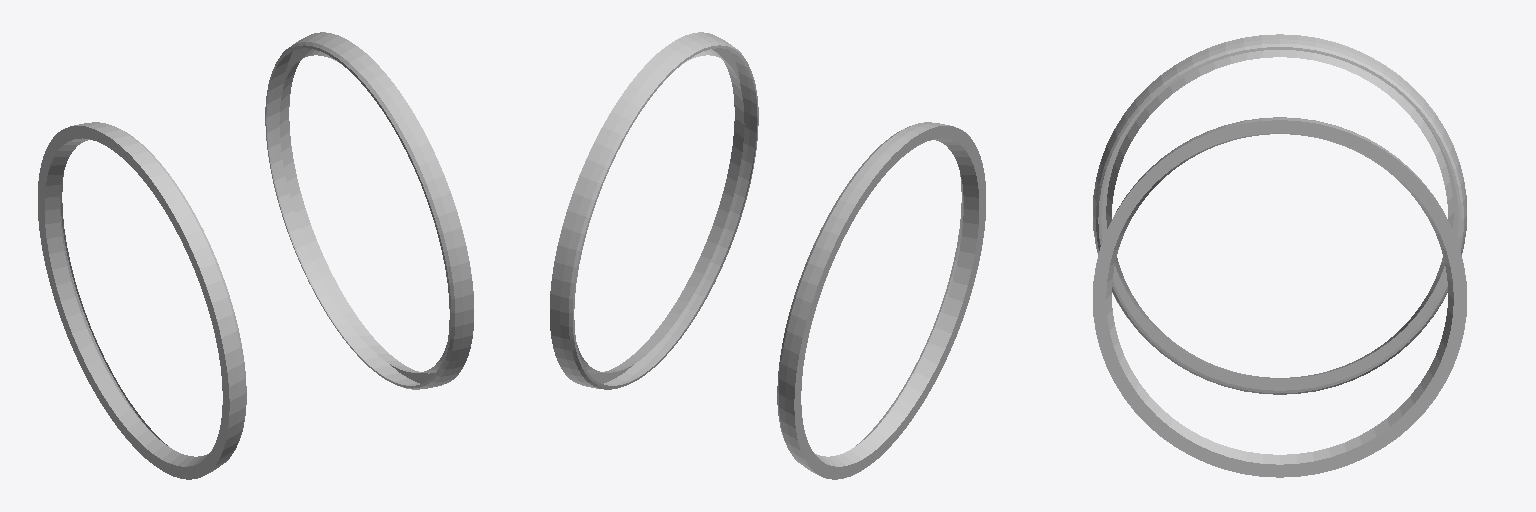
File: drumsetV4_BigDrumRing_Keyframe.obj
3 views of the same model, side by side, from view 1: azimuth 30°, elevation 25°; view 2: azimuth 150°, elevation 25°; view 3: azimuth 270°, elevation 25° (orthographic).
Parts seen in each view (by area): view 1: drumsetV4_BigDrumRing_Cylinder.010; view 2: drumsetV4_BigDrumRing_Cylinder.010; view 3: drumsetV4_BigDrumRing_Cylinder.010.
Part boxes in pixels (left/top/right/bottom): drumsetV4_BigDrumRing_Cylinder.010: left=38, top=32, right=473, bottom=479; drumsetV4_BigDrumRing_Cylinder.010: left=550, top=32, right=985, bottom=479; drumsetV4_BigDrumRing_Cylinder.010: left=1093, top=34, right=1466, bottom=477.
Size of the model in its own units: 1.85 by 2.29 by 2.1.